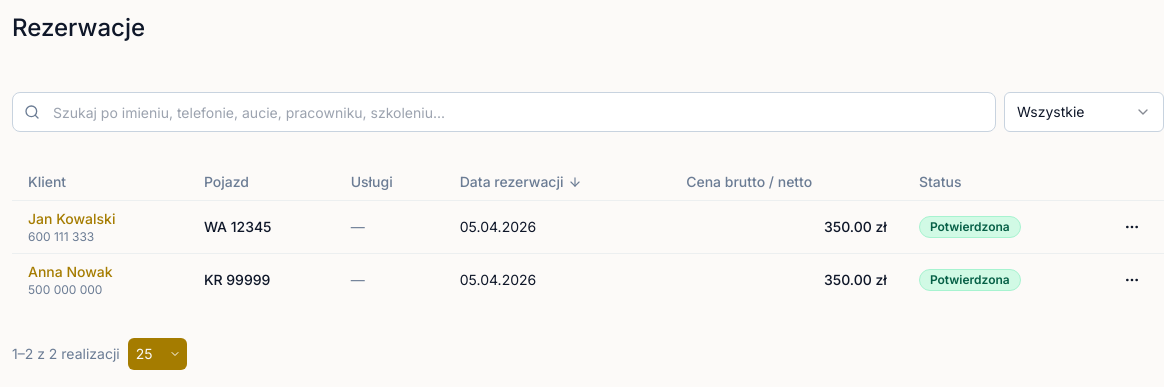
Test: ReservationsView › search filter › filters reservations by VIN from customer_vehicles (matched by plate)
Type "WVWZZZ" into the field.
click(504, 112); type("WVWZZZ")  # box [12,92,996,132]
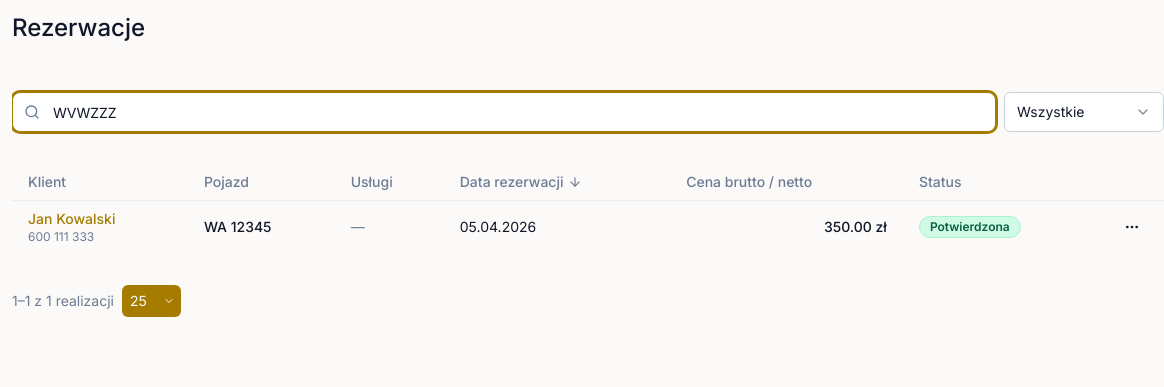
Expected: the button "Jan Kowalski" is shown, [28,208,115,228]
Expected: the button "Anna Nowak" is gone
